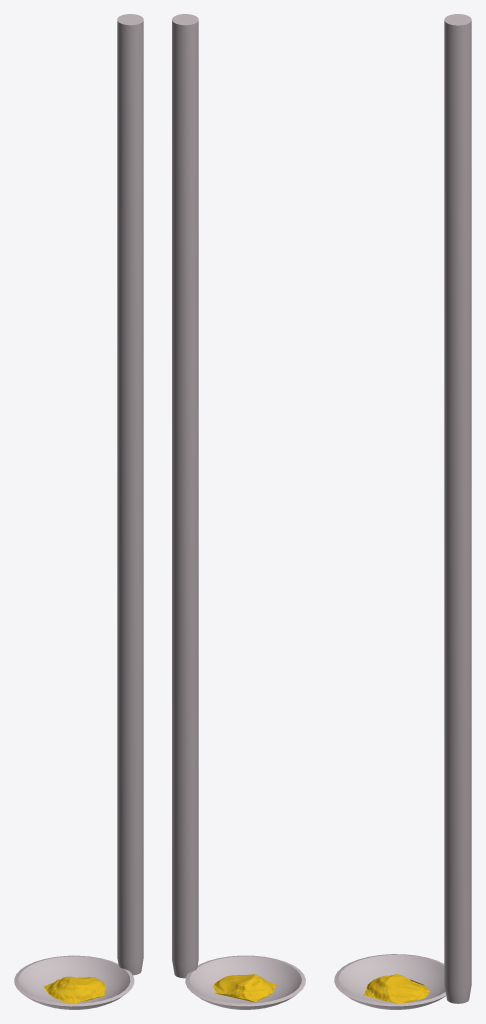
Rendered from IronSpoonVertical.fbx.
3 views of the same model, side by side, from view 1: azimuth 30°, elevation 25°; view 2: azimuth 150°, elevation 25°; view 3: azimuth 330°, elevation 25° (orthographic). The views are drawn at different scales.
Visible parts, largest first — view 1: IronSpoonVertical.001; view 2: IronSpoonVertical.001; view 3: IronSpoonVertical.001.
Part boxes in pixels (x1,y1,x2,y2): IronSpoonVertical.001: (14, 14, 143, 1009); IronSpoonVertical.001: (172, 14, 305, 1009); IronSpoonVertical.001: (334, 14, 471, 1009).
Size of the model in its own units: 3.97 by 30 by 3.4.
